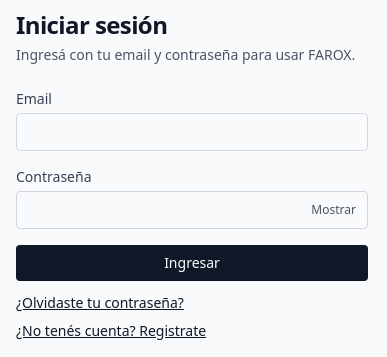
LoginPage (§S2 fila /login) › permite mostrar y ocultar la contraseña sin alterar lo tipeado
Step 1. Type "secreto123" into the password field labelled "Contraseña" → (192, 210), box [16,191,368,229]
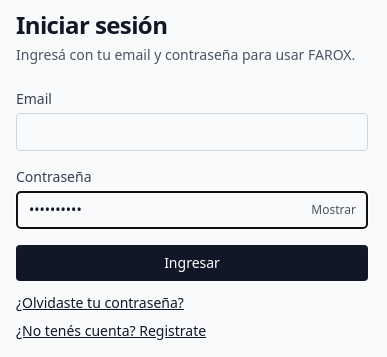
Step 2. Click the button with aria-label "Mostrar contraseña" → (334, 210), box [299,191,368,229]
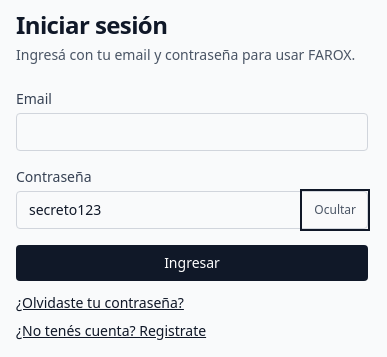
Result: the field labelled "Contraseña" shows its text at [16,191,368,229]
Step 3. Click the button with aria-label "Ocultar contraseña" → (335, 210), box [302,191,368,229]
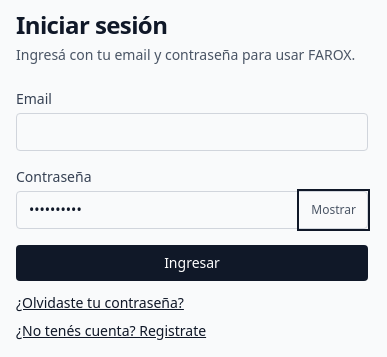
Result: the password field labelled "Contraseña" hides its text at [16,191,368,229]
